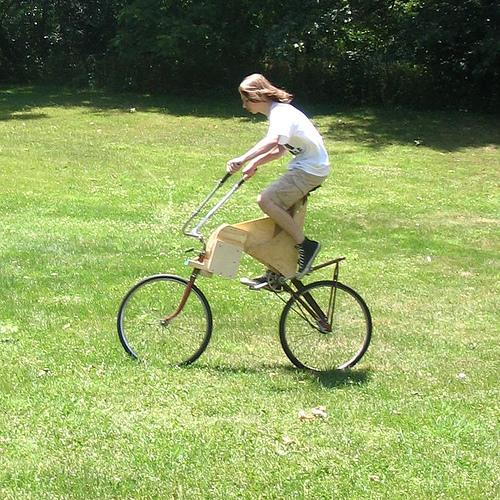person: (230, 71, 334, 292)
